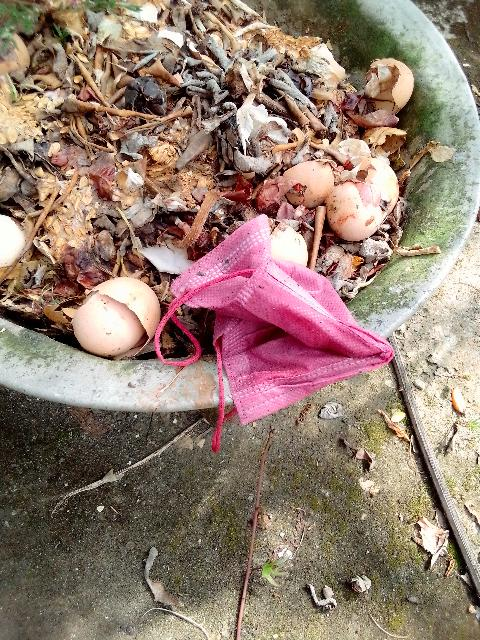mask: (180, 209, 353, 425)
